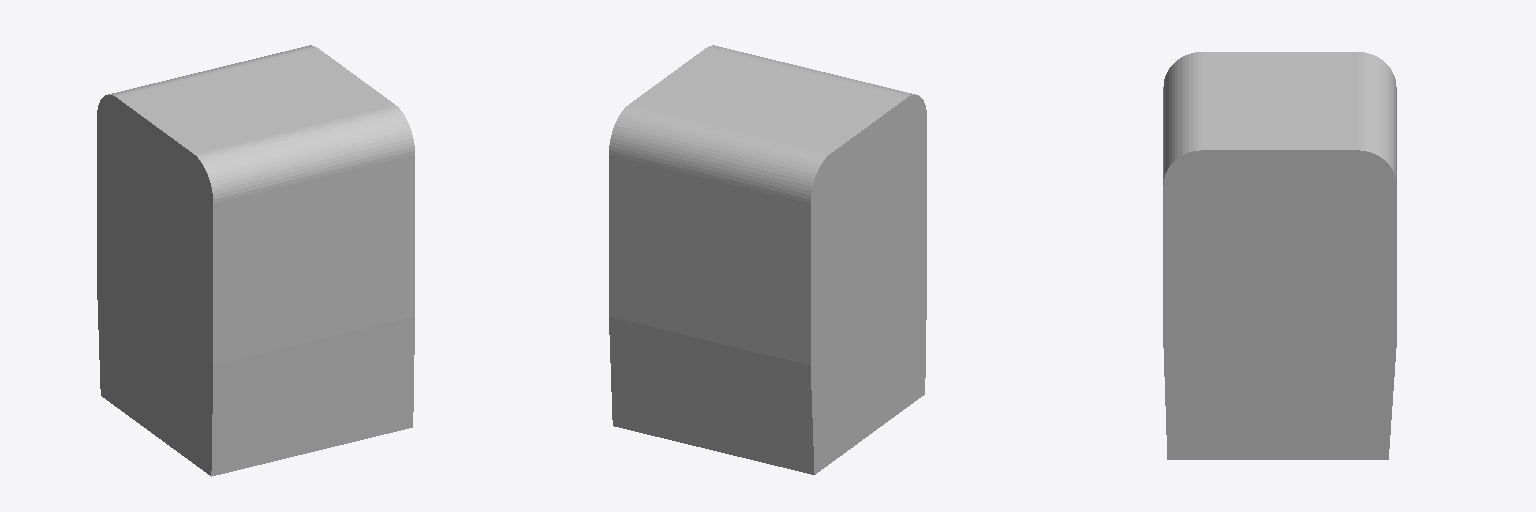
Rendered from Assembly_Moving-Block_convex-hull.obj.
3 renders of one model, left to right at view 1: azimuth 30°, elevation 25°; view 2: azimuth 150°, elevation 25°; view 3: azimuth 270°, elevation 25°, orthographic.
Bounding box in the file's own units: 0.03 × 0.044 × 0.03.